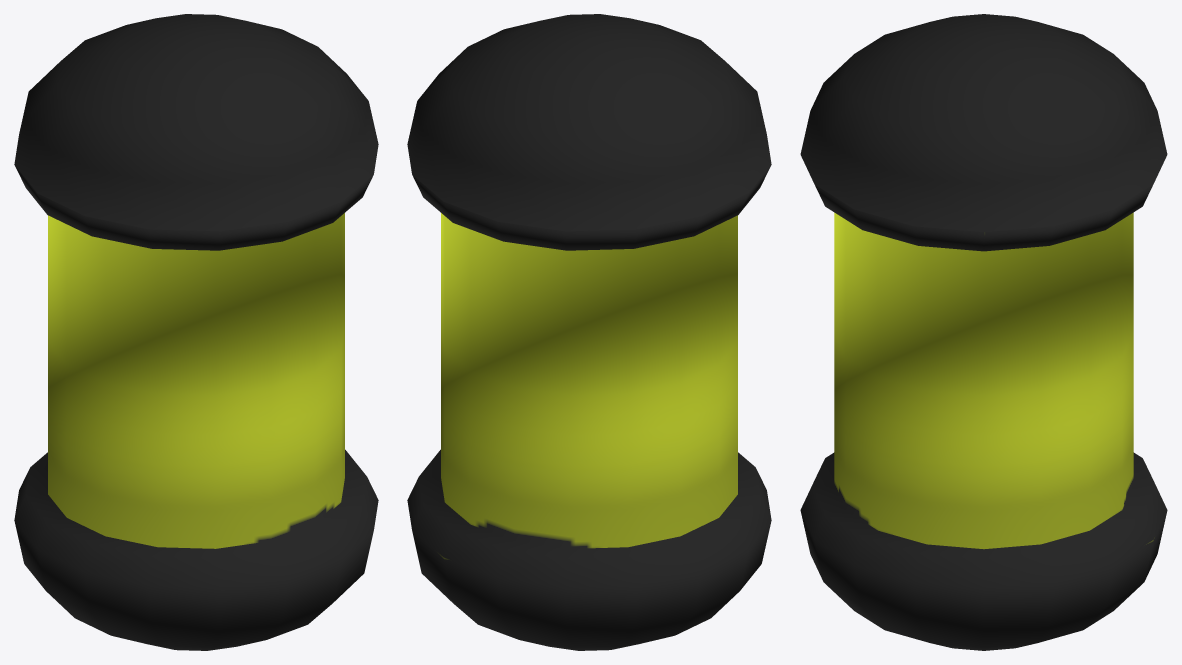
The model's file is GrenadeLauncherBullet.fbx.
3 views of the same model, side by side, from view 1: azimuth 30°, elevation 25°; view 2: azimuth 150°, elevation 25°; view 3: azimuth 270°, elevation 25° (orthographic).
Visible parts, largest first — view 1: Circle; view 2: Circle; view 3: Circle.
Boxes of the visible parts, box(x1,y1,x2,y2) form: Circle: box(14, 14, 378, 650); Circle: box(407, 14, 771, 650); Circle: box(800, 14, 1167, 650).
Size of the model in its own units: 200 by 356 by 200.
